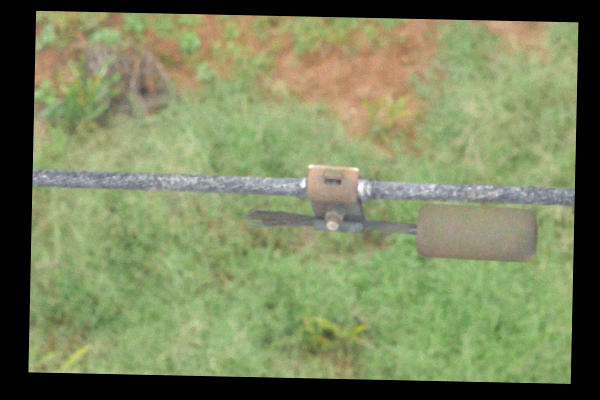damper_defect: (237, 156, 543, 266)
